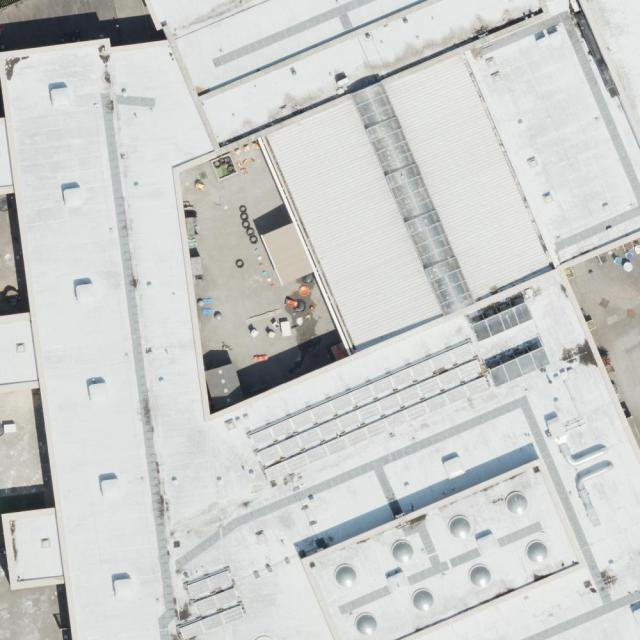roof: (0, 0, 640, 640)
skylight: (350, 80, 476, 316), (487, 346, 550, 388), (471, 303, 534, 341)
